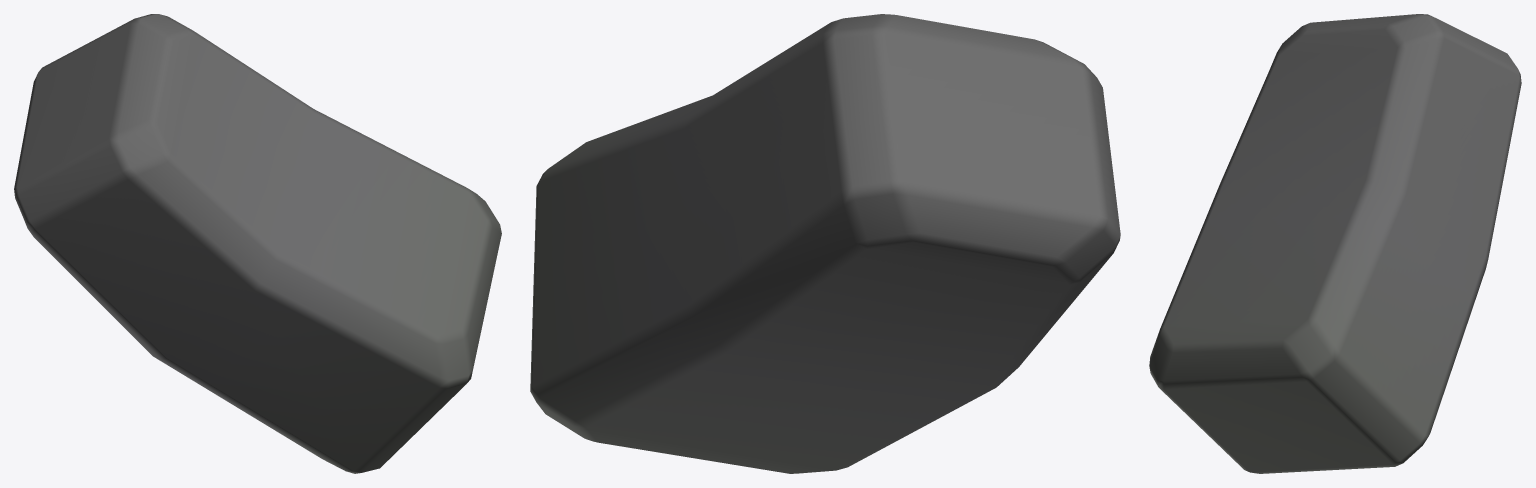
3 views of the same model, side by side, from view 1: azimuth 30°, elevation 25°; view 2: azimuth 150°, elevation 25°; view 3: azimuth 270°, elevation 25° (orthographic). The views are drawn at different scales.
Visible parts, largest first — view 1: model_1.046; view 2: model_1.046; view 3: model_1.046.
Part boxes in pixels (x1,y1,x2,y2): model_1.046: [14, 14, 501, 473]; model_1.046: [530, 14, 1120, 473]; model_1.046: [1149, 14, 1521, 473].
Bounding box in the file's own units: 4.18 × 3.74 × 3.22.
